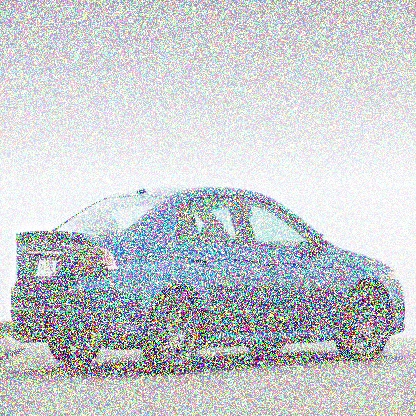Vehicle: (9, 185, 406, 377)
